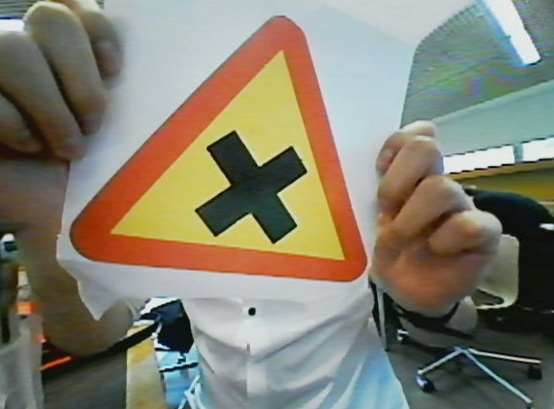junction: (66, 13, 376, 286)
